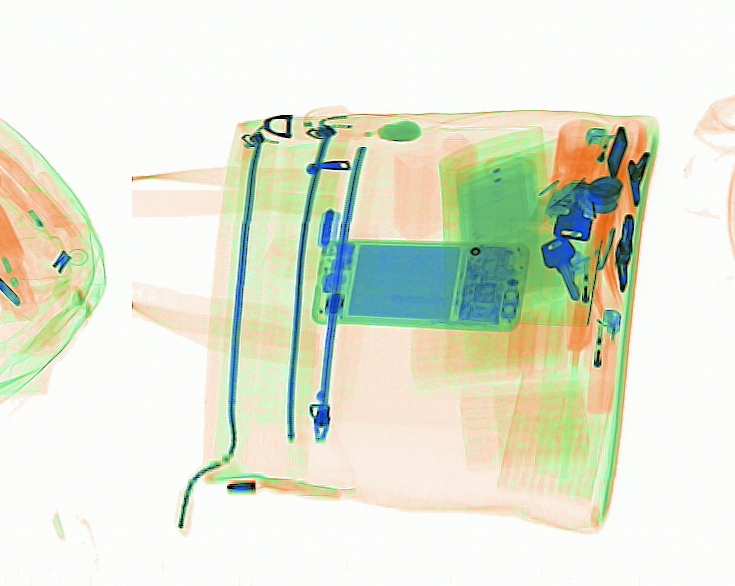lighter: (583, 306, 621, 416), (565, 246, 600, 354), (569, 123, 615, 200)
